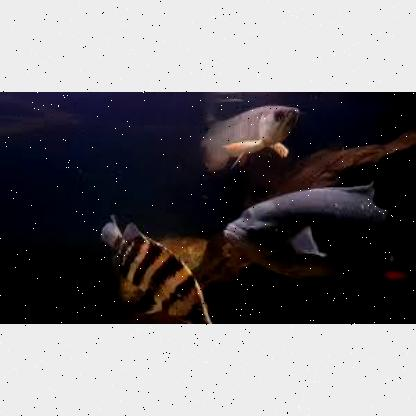gurame: (224, 189, 390, 279)
